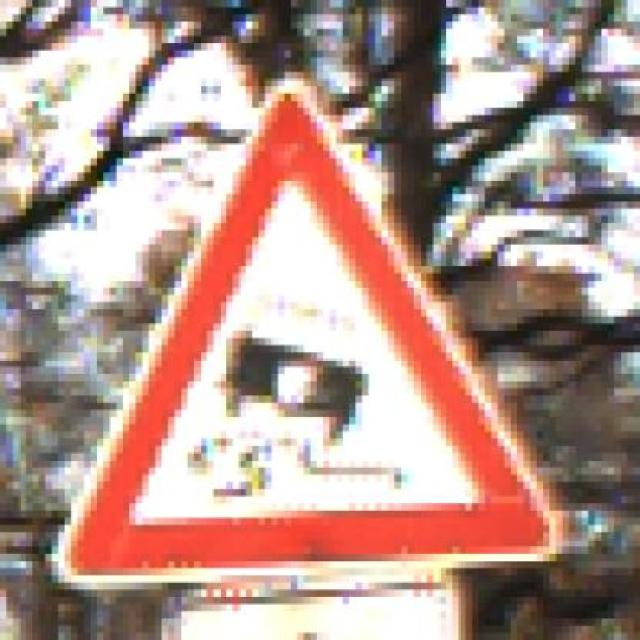Slippery Road Ahead: (39, 65, 588, 597)
